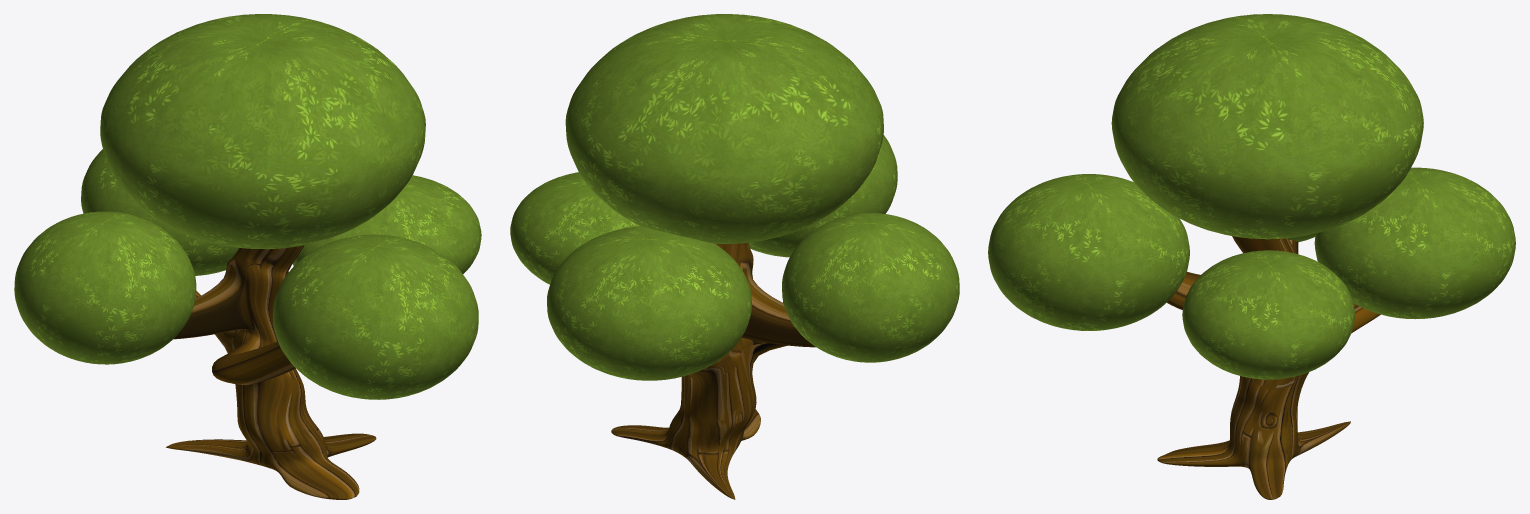
Rendered from tree.fbx.
3 renders of one model, left to right at view 1: azimuth 30°, elevation 25°; view 2: azimuth 150°, elevation 25°; view 3: azimuth 270°, elevation 25°, orthographic. The views are drawn at different scales.
Visible parts, largest first — view 1: trunk1; view 2: trunk1; view 3: trunk1.
Part boxes in pixels (x1,y1,x2,y2): trunk1: (14, 14, 481, 499); trunk1: (510, 14, 959, 499); trunk1: (988, 14, 1515, 499).
Bounding box in the file's own units: 888 × 827 × 964.
2 materials, 2 textured.
